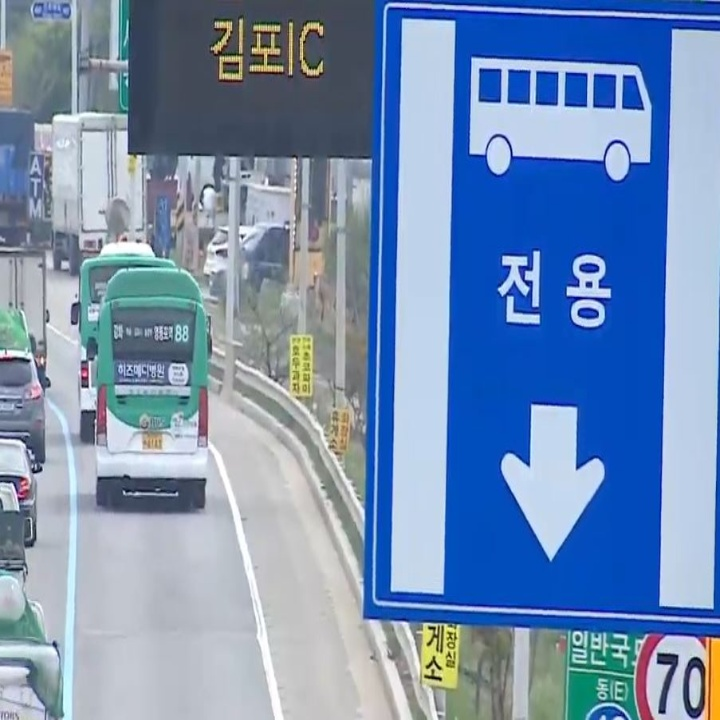bus: (456, 29, 672, 187)
